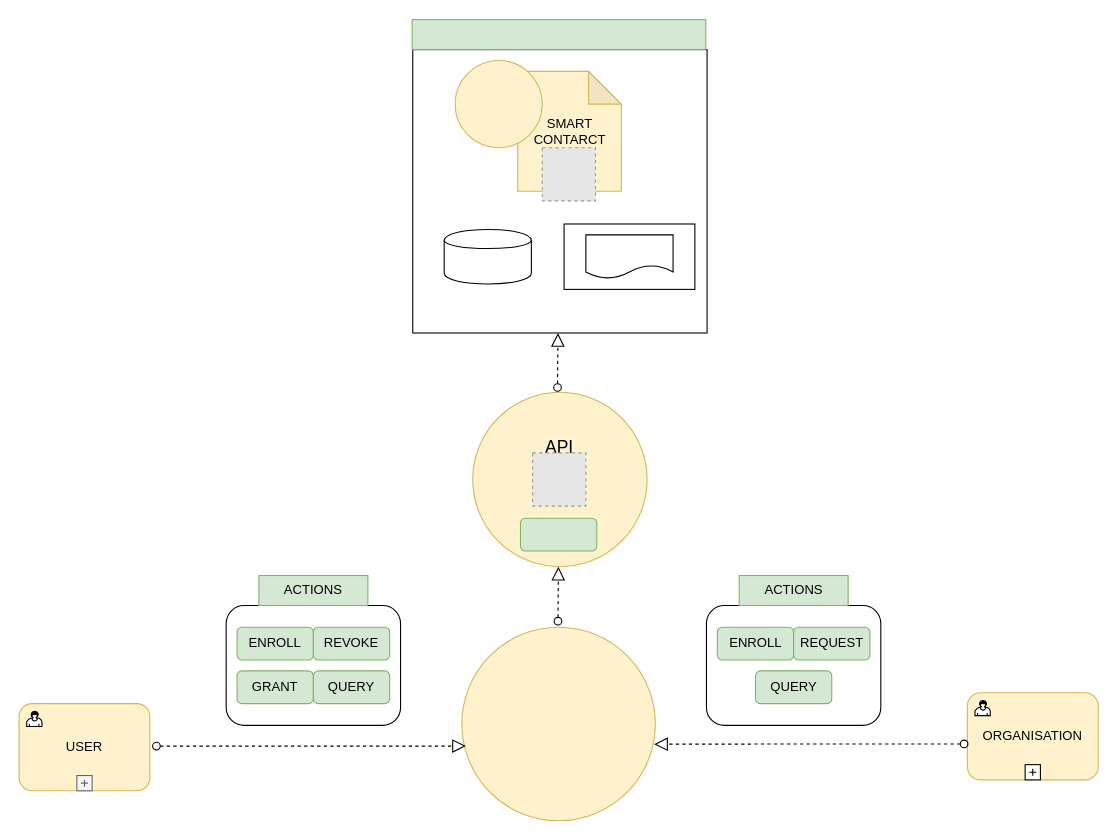
Image size: 1117x839. Some labels were removed from this diagram. Grey dashed boxes stand in for pictures. Each missing label, with the centre of its shape:
"CLIENT APPLICATION (CLI)" belongs at point (558, 723).
"GET PUT DELETE" belongs at point (498, 103).
"Hyperleder Fabric" belongs at point (558, 34).
"SDK" belongs at point (558, 534).
"State" belongs at point (487, 256).
"Tnx" belongs at point (629, 256).
